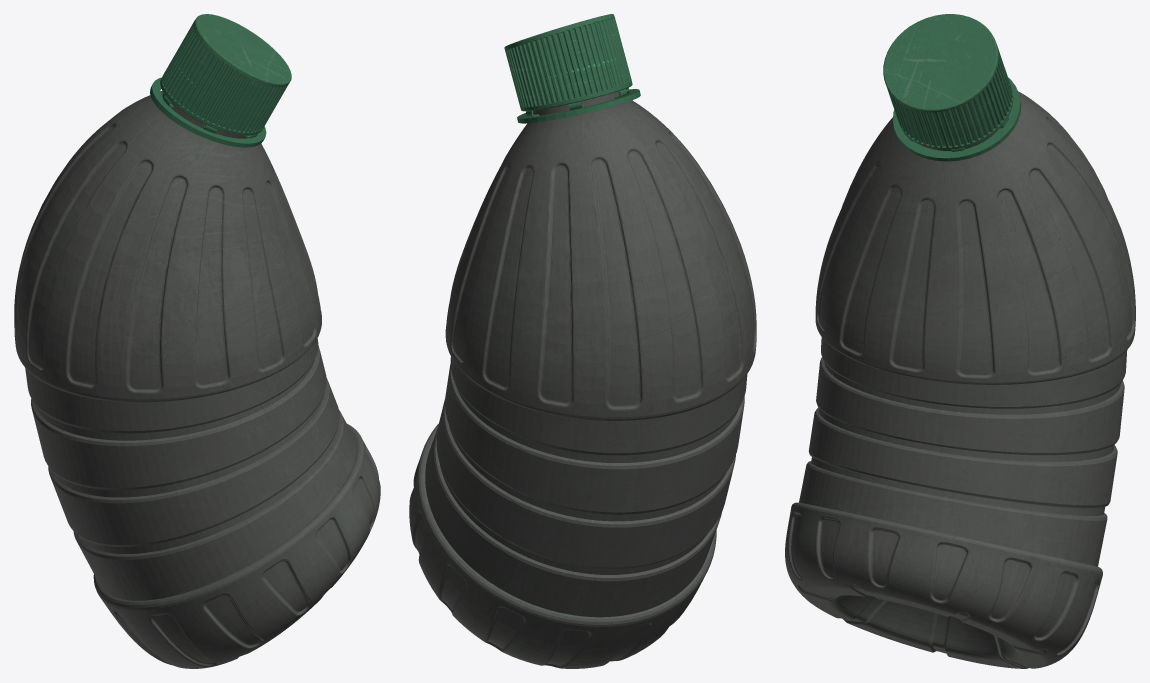
The model's file is bend_high_0.obj.
3 renders of one model, left to right at view 1: azimuth 30°, elevation 25°; view 2: azimuth 150°, elevation 25°; view 3: azimuth 270°, elevation 25°, orthographic. The views are drawn at different scales.
Parts seen in each view (by area): view 1: model; view 2: model; view 3: model.
Part boxes in pixels (x1,y1,x2,y2): model: (14,14,380,668); model: (409,14,756,668); model: (785,14,1135,668).
Bounding box in the file's own units: 0.1445 × 0.2763 × 0.1347.
1 material, 1 textured.
